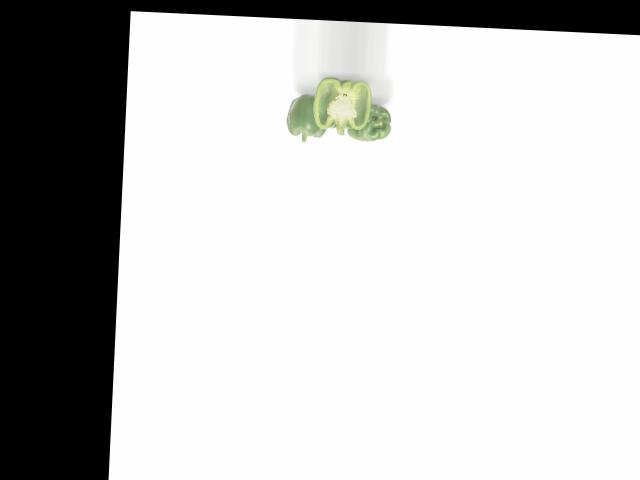bell_pepper: (342, 97, 396, 146)
